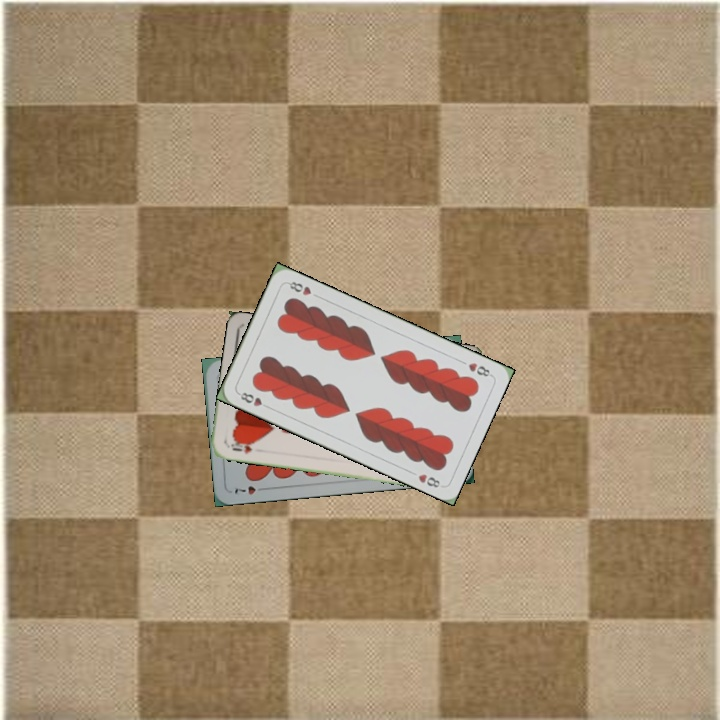H7: (230, 482, 269, 497)
H8: (234, 388, 273, 411), (464, 358, 494, 379)
HO: (224, 436, 257, 456)
